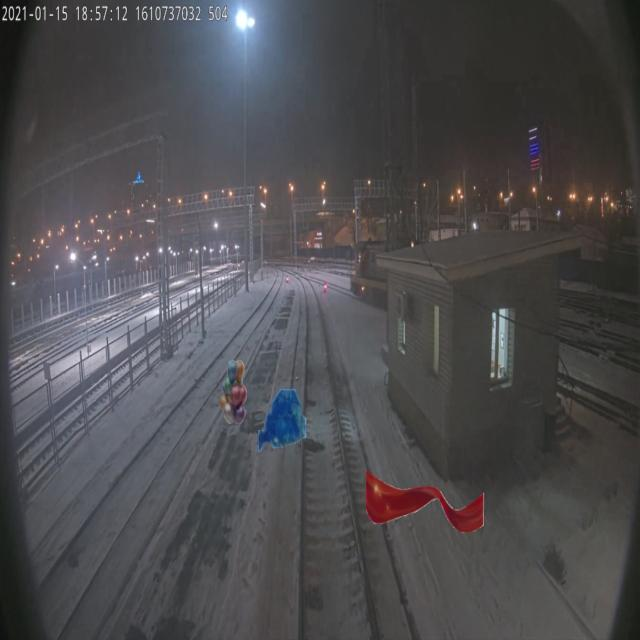balloon: (220, 359, 247, 424)
floating object: (363, 470, 486, 534)
plastic bag: (257, 388, 309, 452)
